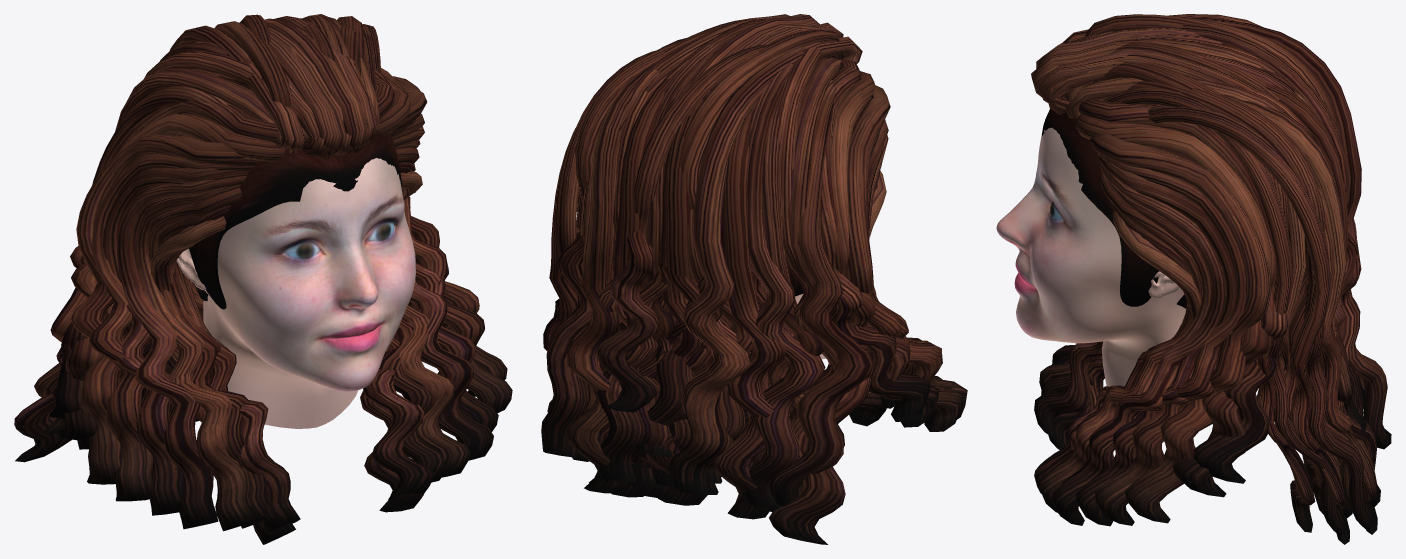
File: avatar_female.glb
3 views of the same model, side by side, from view 1: azimuth 30°, elevation 25°; view 2: azimuth 150°, elevation 25°; view 3: azimuth 270°, elevation 25° (orthographic). The views are drawn at different scales.
Parts seen in each view (by area): view 1: normal; view 2: normal; view 3: normal.
Part boxes in pixels (bbox=[...]): normal: bbox=[14, 14, 512, 544]; normal: bbox=[541, 14, 967, 544]; normal: bbox=[996, 14, 1391, 544].
Bounding box in the file's own units: 365 × 387 × 298.
Materials: 3 (3 with a texture image).
